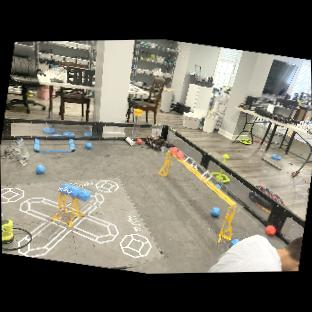Goal: (165, 145, 244, 212)
Loader: (130, 108, 141, 141)
Low_goal: (35, 198, 94, 241)
Med_goal: (41, 177, 104, 208)
Parking - B: (33, 138, 75, 152)
Robot: (143, 132, 173, 151)
V5_BLUE: (208, 204, 222, 218), (33, 162, 45, 176), (229, 235, 240, 248), (83, 140, 93, 150)
V5_RED: (263, 223, 277, 237), (134, 137, 142, 145)
blueingoal: (75, 187, 94, 203), (66, 183, 81, 199), (57, 181, 71, 195)
redingoal: (174, 149, 187, 160), (168, 144, 179, 154)
